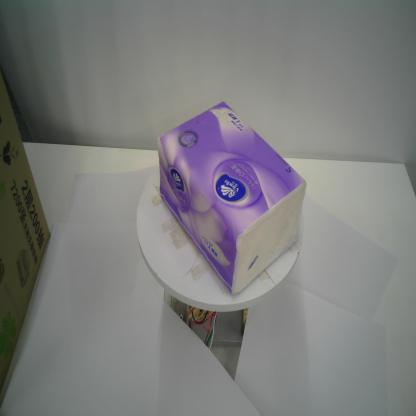Tissue: (154, 100, 308, 298)
